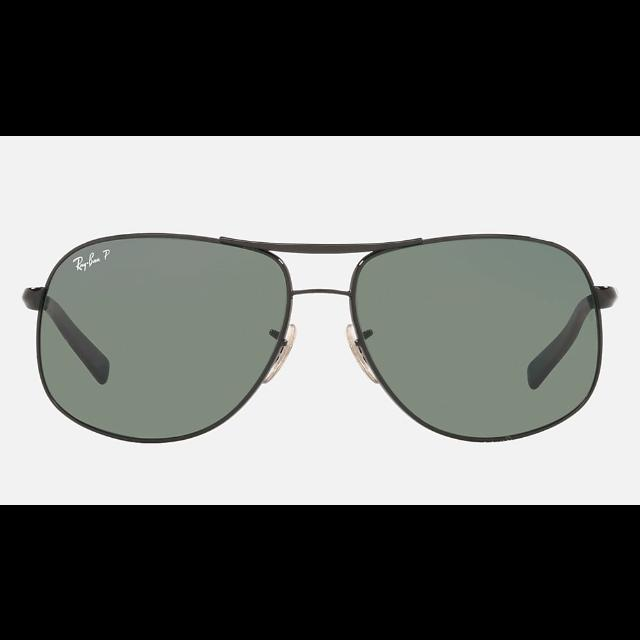Sunglasses: (22, 230, 614, 444)
